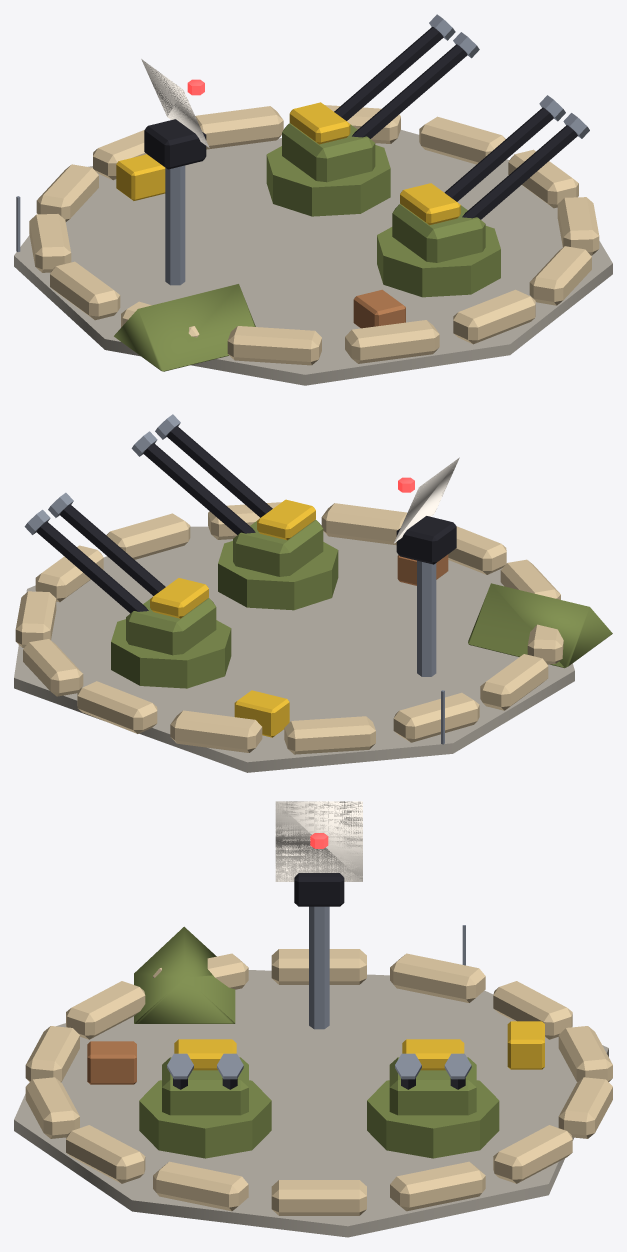
Rendered from aa_battery.glb.
3 renders of one model, top to bottom at view 1: azimuth 30°, elevation 25°; view 2: azimuth 150°, elevation 25°; view 3: azimuth 270°, elevation 25°, orthographic. The views are drawn at different scales.
Parts seen in each view (by area): view 1: aa_battery; view 2: aa_battery; view 3: aa_battery.
Boxes of the visible parts, box(x1,y1,x2,y2) form: aa_battery: box(14, 14, 612, 385); aa_battery: box(14, 414, 612, 772); aa_battery: box(14, 801, 612, 1237).
Bounding box in the file's own units: 29.36 × 12.19 × 28.93.
Materials: 1 (1 with a texture image).
